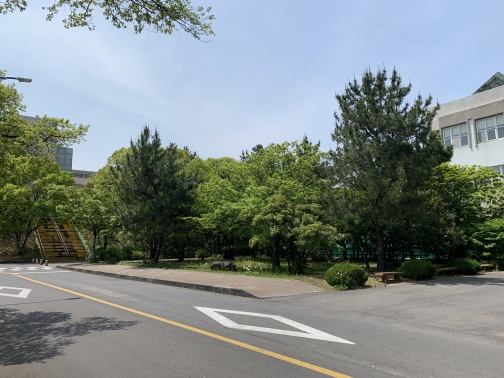Ara Hall: (303, 223, 447, 263)
College Of Education: (5, 109, 109, 205)
